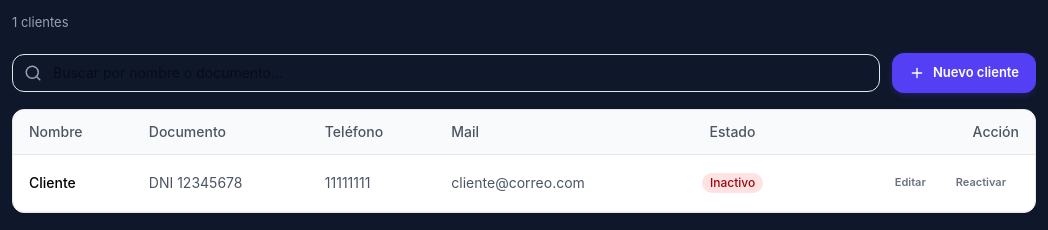
Test: ClientesPage › reactivar vuelve a mostrar al cliente como activo
Click the button "Reactivar" at (981, 182), box [943,166,1019,198]
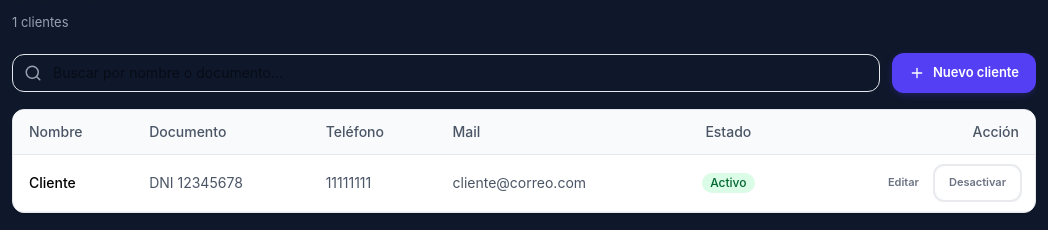
Expected: the button "Desactivar" is shown, [936,166,1019,198]
